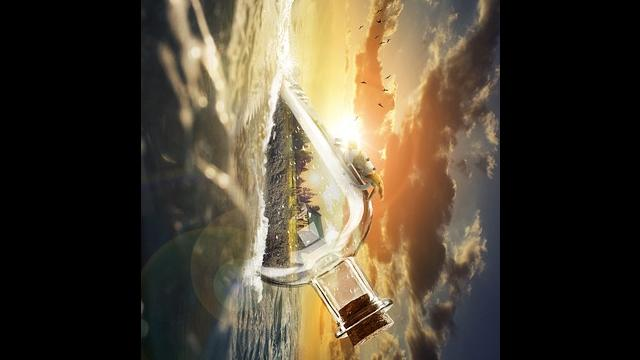Non_Gorille: (195, 0, 469, 360)
